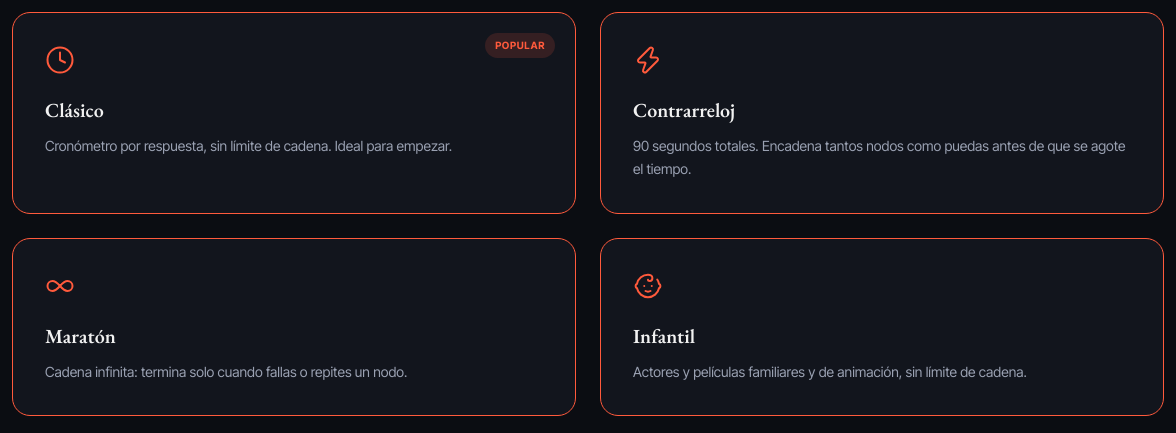
it: ModeGrid › mientras una tarjeta está iniciando partida, las demás quedan deshabilitadas
The image size is (1176, 433).
Click the button "Clásico": (520, 46) [12,12,576,214]
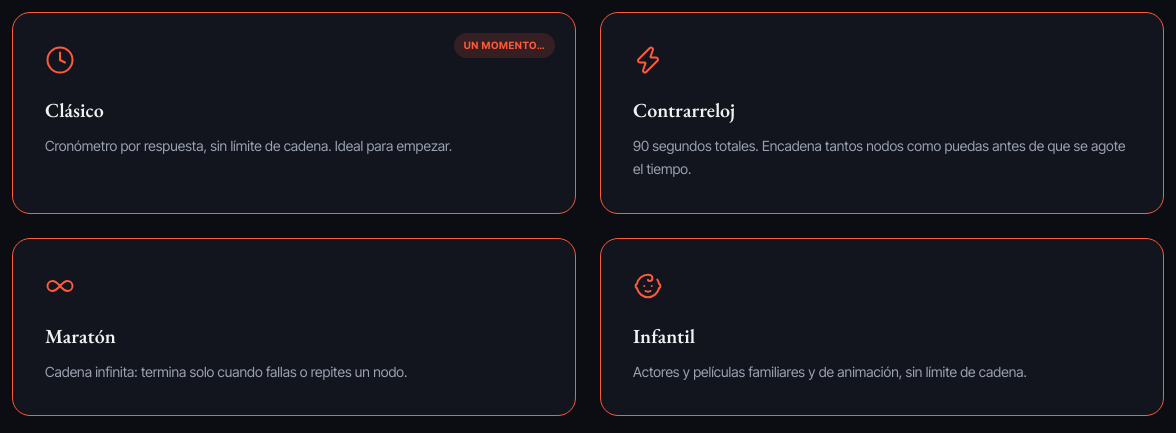
Check: the button "Contrarreloj" is disabled, box [600,12,1164,214]
Check: the text "Un momento…" is shown, box [454,33,555,58]
